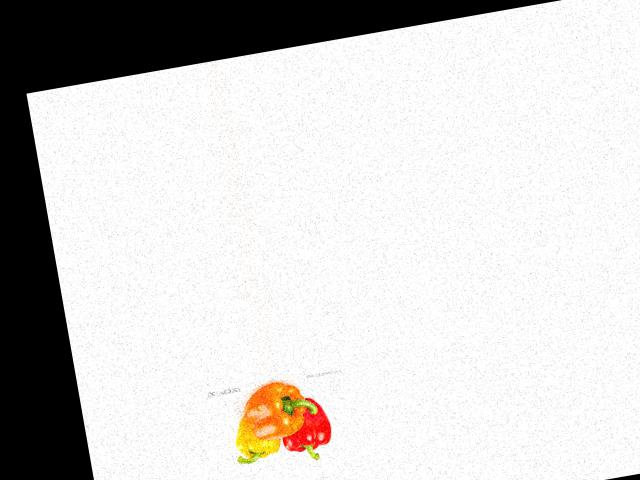bell_pepper: (227, 408, 286, 468)
